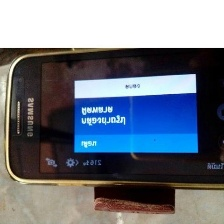phone: (2, 42, 223, 193)
